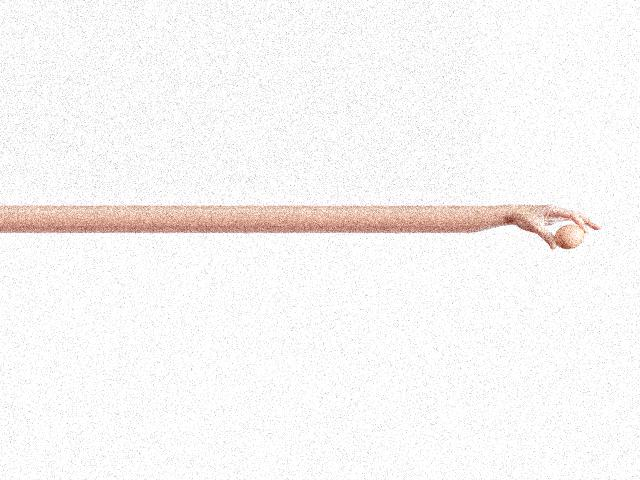egg: (553, 225, 584, 249)
